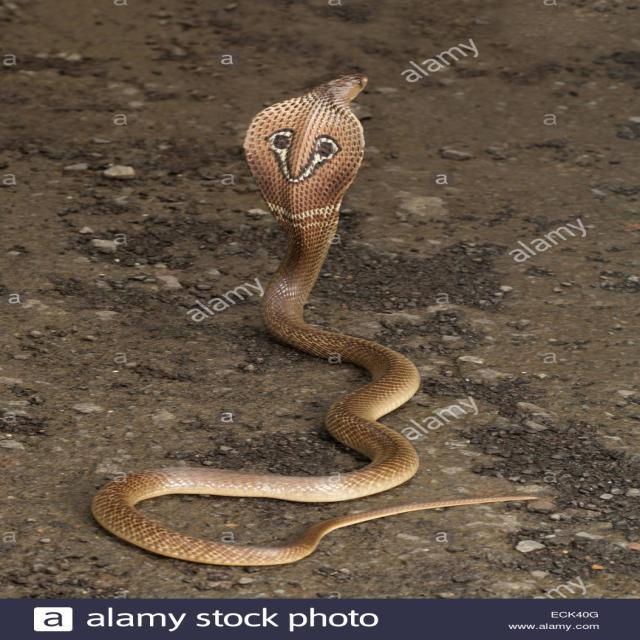Snake: (90, 72, 540, 566)
